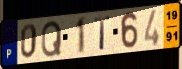0: (19, 23, 38, 61)
1: (75, 16, 88, 57)
4: (143, 8, 161, 48)
6: (120, 11, 140, 51)
Q: (41, 19, 63, 59)
T: (94, 15, 112, 51)
